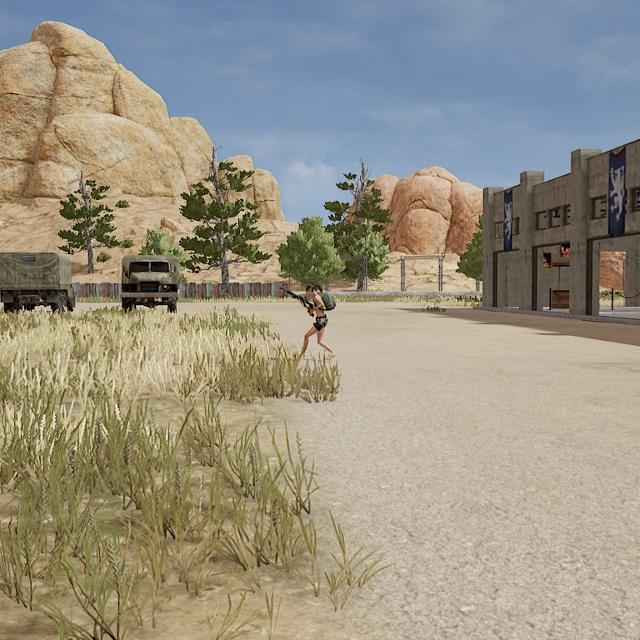head: (304, 281, 319, 297)
people: (295, 280, 338, 361)
